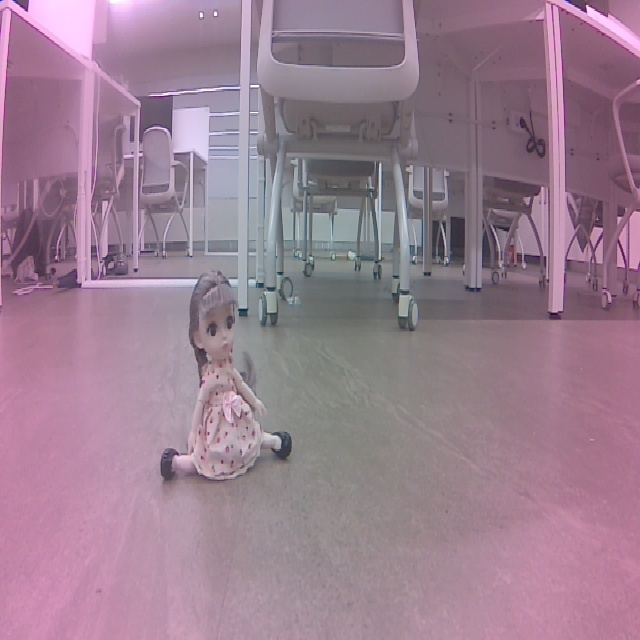장애물: (159, 253, 381, 451)
